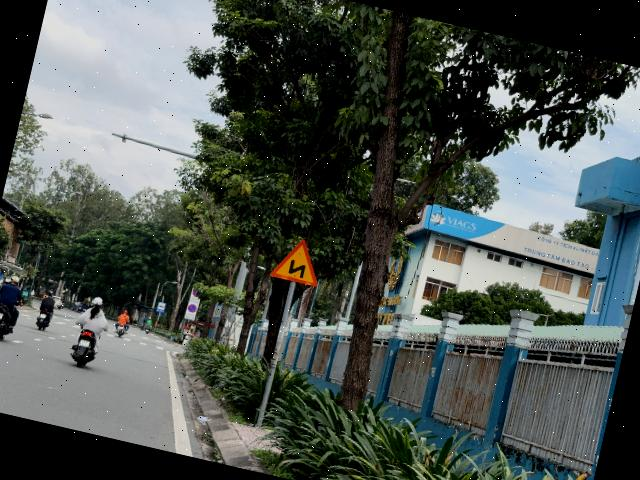nhieu-cho-ngoat-nguy-hiem-lien-tiep: (268, 233, 326, 287)
